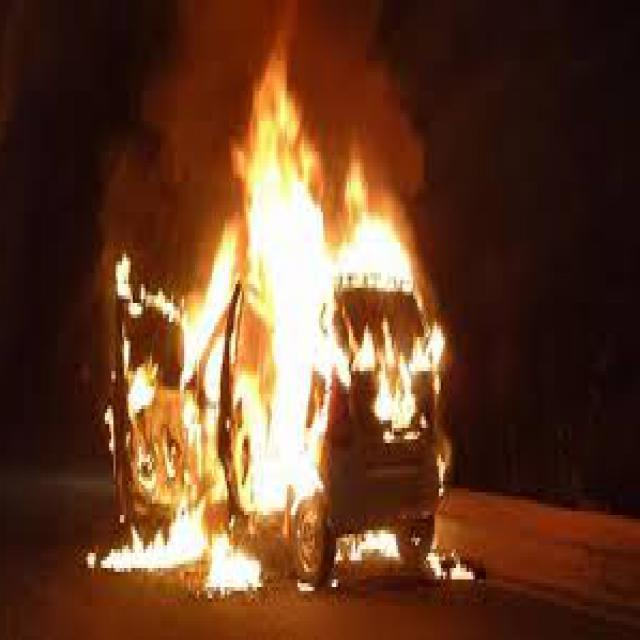Fire: (110, 137, 439, 606)
Smoke: (126, 16, 457, 182)
